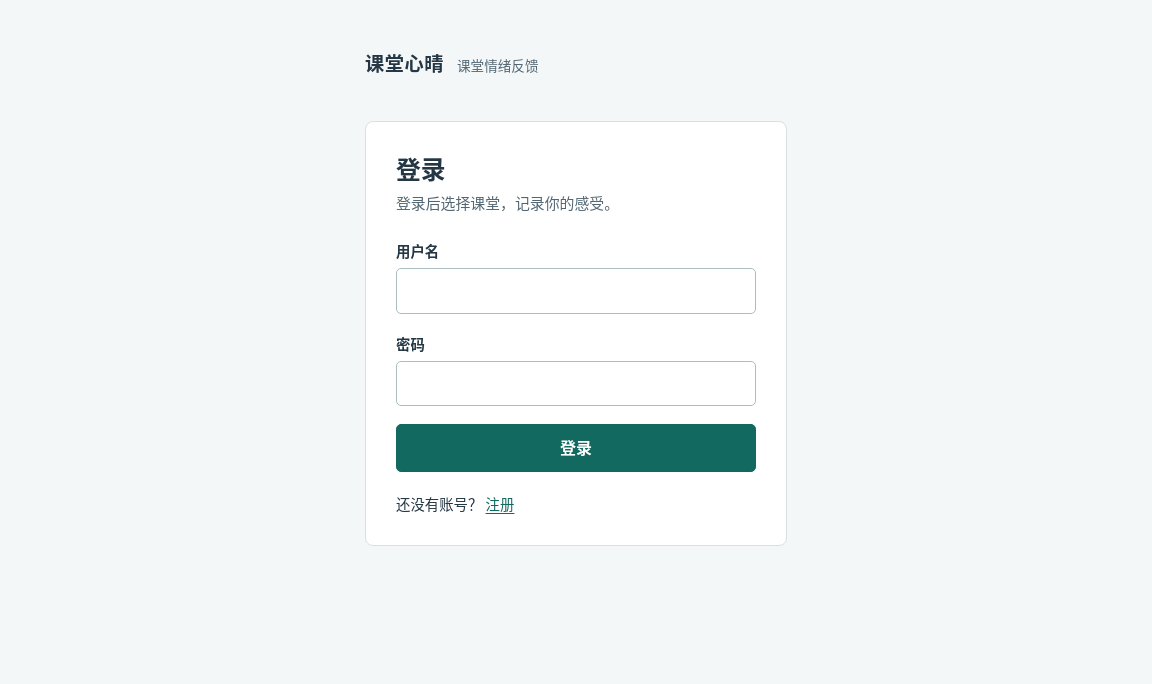
Test: 退出立即清除个人视图，旧历史响应不能恢复数据；注销失败可见
In the field labelled "用户名": (576, 291) [396, 268, 756, 314], type "student-a"
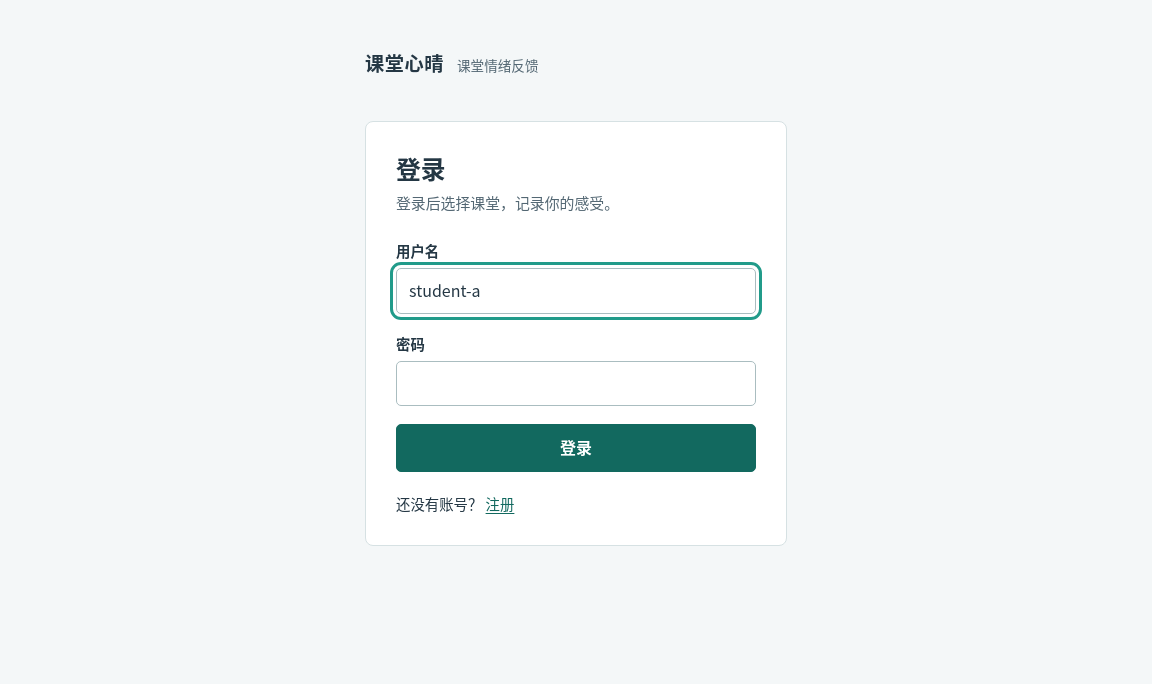
In the password field labelled "密码": (576, 383) [396, 361, 756, 406], type "password123"
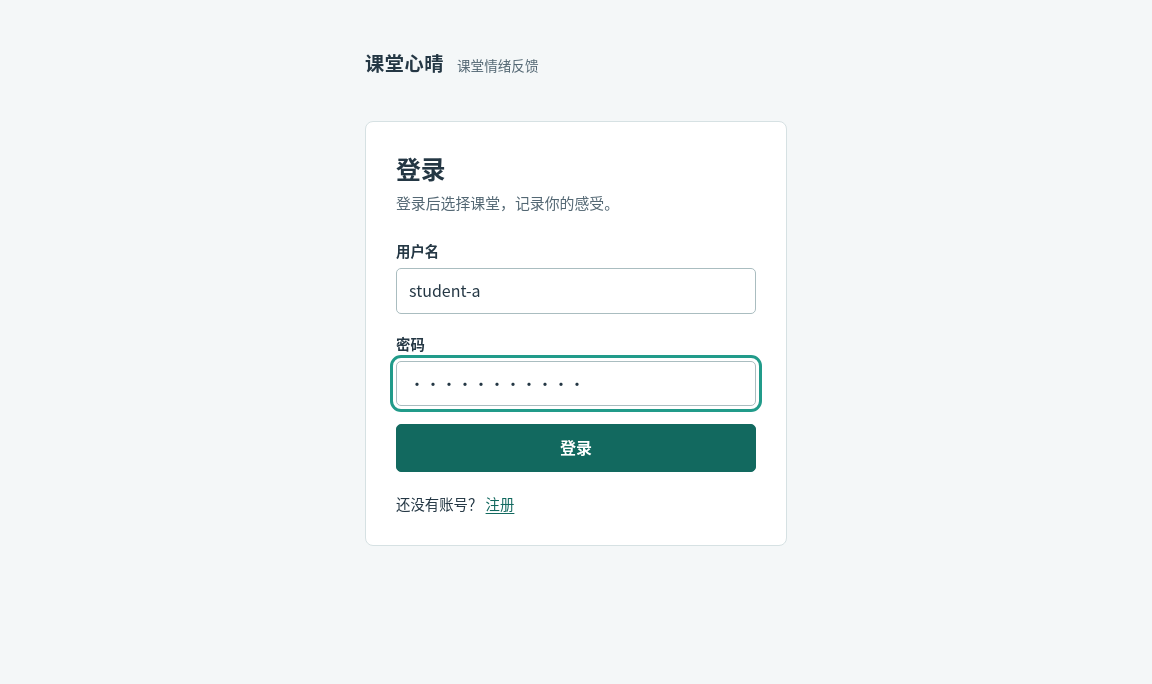
Click the button "登录": (576, 448) [396, 424, 756, 472]
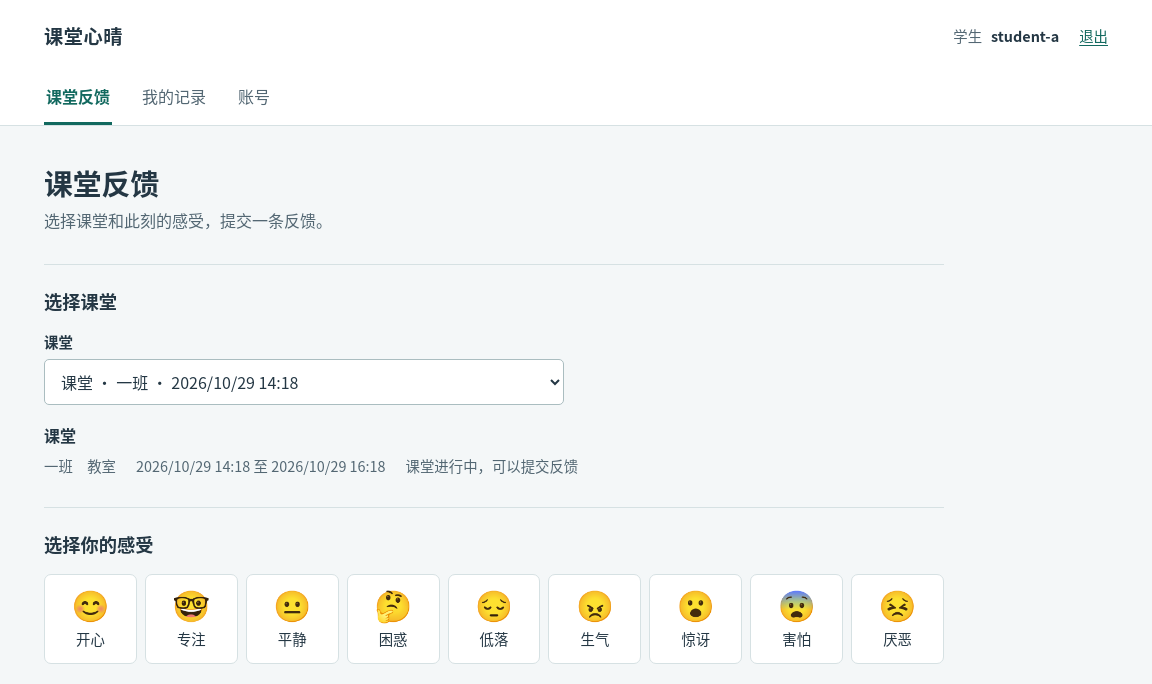
Expected: the heading "课堂反馈" is shown, [44, 162, 159, 203]
Expected: the dropdown labelled "课堂" shows "课堂 · 一班 · 2026/10/29 14:18", [44, 359, 564, 405]
Click the button "退出": (1094, 36) [1079, 24, 1108, 48]
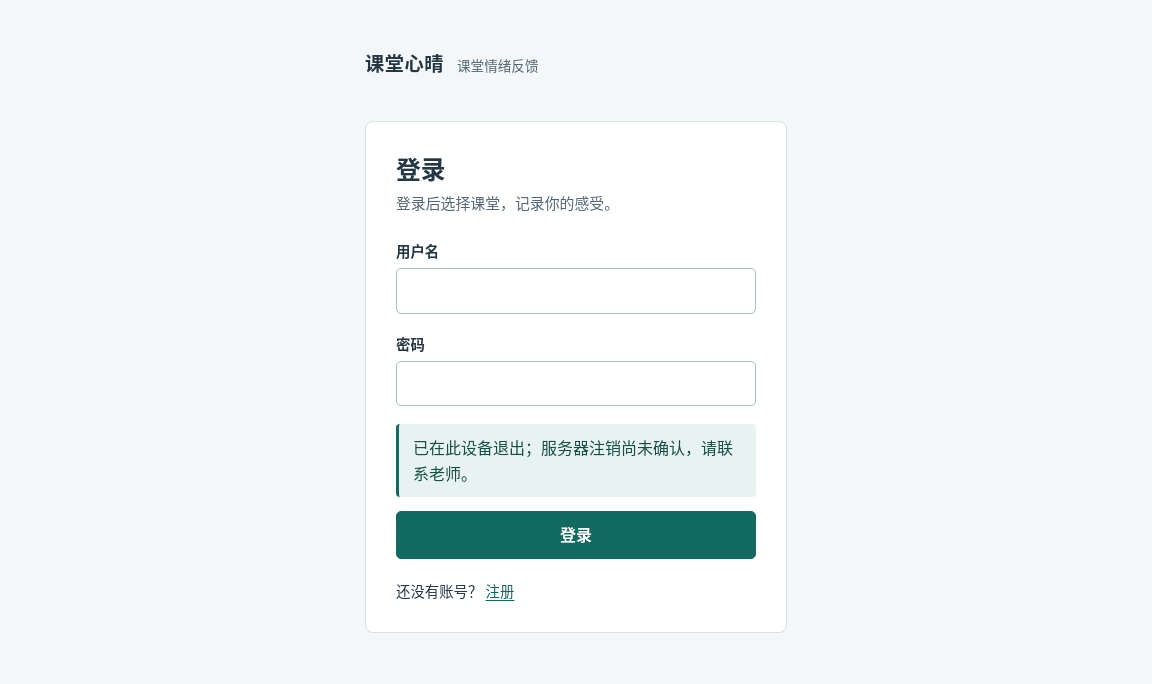
Expected: the heading "登录" is shown, [396, 150, 446, 186]
Expected: the button "课堂反馈" is gone
Expected: the text "已在此设备退出；服务器注销尚未确认，请联系老师。" is shown, [396, 424, 756, 497]
